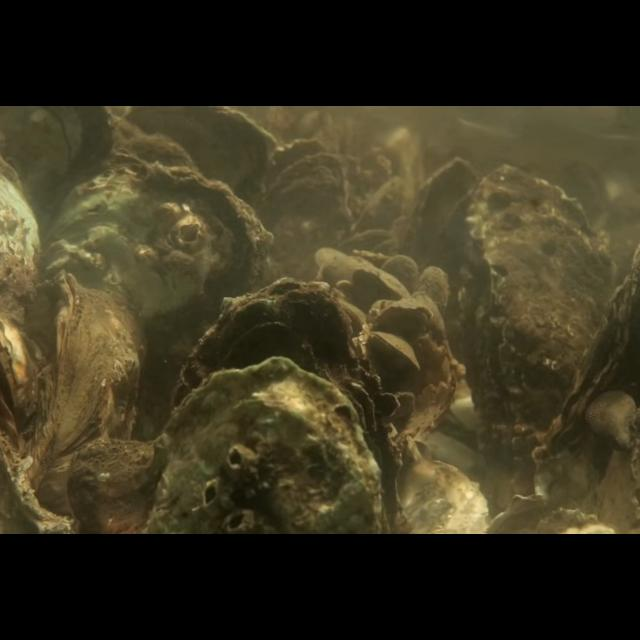Oyster-Closed: (45, 160, 274, 430), (172, 277, 402, 535), (144, 356, 383, 534), (28, 268, 142, 534), (400, 156, 480, 310), (351, 266, 411, 302), (380, 254, 420, 302), (374, 300, 432, 332), (416, 266, 449, 316)
Oyster-Open: (456, 162, 614, 458), (528, 236, 640, 502), (254, 137, 350, 279), (369, 331, 418, 373)
